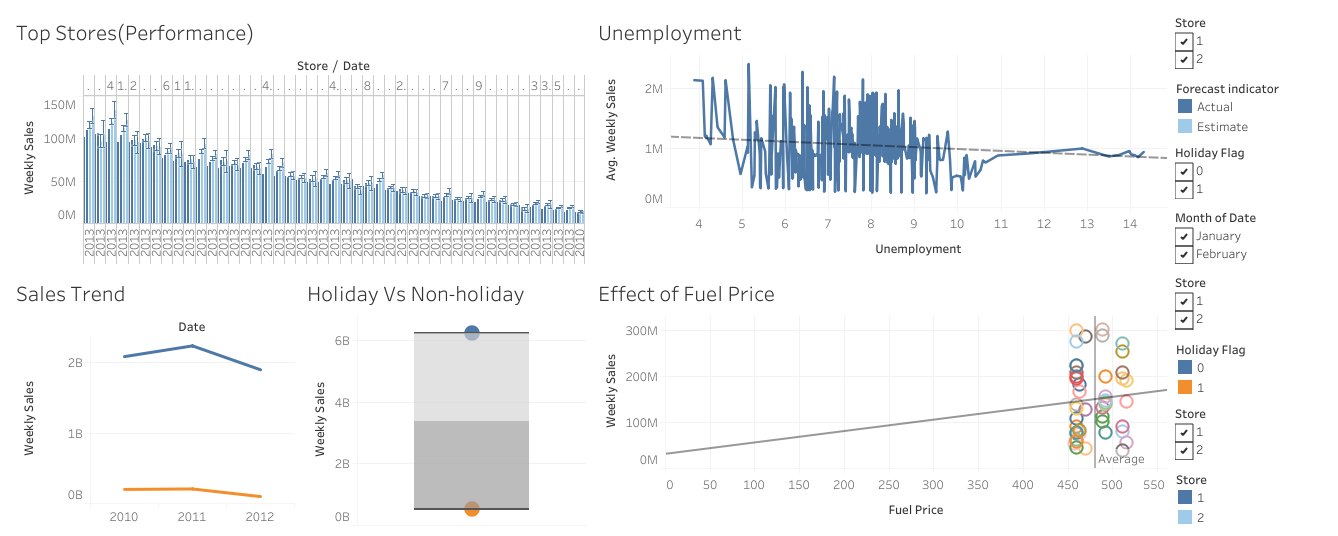

Layout of this report page (visuals, bound fields, positions):
{"tool":"tableau","page":{"name":"Walmart Sales","canvas":[1000,1000],"units":"permille","ordinal":0},"visuals":[{"type":"worksheet","title":"Top Stores","mark":"Automatic","rows":["Weekly_Sales"],"cols":["Store","Date"],"box":[6.9,14.5,423.8,485.5]},{"type":"worksheet","title":"Unemployment","mark":"Automatic","rows":["Weekly_Sales"],"cols":["Unemployment"],"box":[430.7,14.5,423.8,485.5]},{"type":"filter","title":"Top Stores","param":"[federated.04n7eq60n4e3td14e5ic00j8aycc].[none:Store:ok]","box":[854.5,14.5,138.5,122]},{"type":"legend","title":"Top Stores","param":"[federated.04n7eq60n4e3td14e5ic00j8aycc].[none:Forecast Indicator:nk]","box":[854.5,136.5,138.5,119.6]},{"type":"filter","title":"Unemployment","param":"[federated.04n7eq60n4e3td14e5ic00j8aycc].[none:Holiday_Flag:ok]","box":[854.5,256,138.5,122]},{"type":"filter","title":"Sales Trend","param":"[federated.04n7eq60n4e3td14e5ic00j8aycc].[mn:Date:ok]","box":[854.5,378,138.5,122]},{"type":"worksheet","title":"Sales Trend","mark":"Automatic","rows":["Weekly_Sales"],"cols":["Date"],"box":[6.9,500,211.9,485.5]},{"type":"worksheet","title":"Holidays Vs Non","mark":"Circle","rows":["Weekly_Sales"],"box":[218.8,500,211.9,485.5]},{"type":"worksheet","title":"Fuel Chart","mark":"Automatic","rows":["Weekly_Sales"],"cols":["Fuel_Price"],"box":[430.7,500,423.8,485.5]},{"type":"filter","title":"Sales Trend","param":"[federated.04n7eq60n4e3td14e5ic00j8aycc].[none:Store:ok]","box":[854.5,500,138.5,122]},{"type":"legend","title":"Sales Trend","param":"[federated.04n7eq60n4e3td14e5ic00j8aycc].[none:Holiday_Flag:ok]","box":[854.5,622,138.5,119.6]},{"type":"filter","title":"Fuel Chart","param":"[federated.04n7eq60n4e3td14e5ic00j8aycc].[none:Store:ok]","box":[854.5,741.5,138.5,122]},{"type":"legend","title":"Fuel Chart","param":"[federated.04n7eq60n4e3td14e5ic00j8aycc].[none:Store:ok]","box":[854.5,863.5,138.5,122]}]}

Visuals, with their boxes on the dashboard's canvas, which has no fixed pixel size, in thousandths of its width and height (x1, y1, x2, y2). These are canvas units, not pixel positions in the 1338x536 screenshot, which may show the page scaled, cropped or inside an application window:
"Top Stores" worksheet: rect(7, 14, 431, 500)
"Unemployment" worksheet: rect(431, 14, 854, 500)
"Top Stores" filter: rect(854, 14, 993, 136)
"Top Stores" legend: rect(854, 136, 993, 256)
"Unemployment" filter: rect(854, 256, 993, 378)
"Sales Trend" filter: rect(854, 378, 993, 500)
"Sales Trend" worksheet: rect(7, 500, 219, 986)
"Holidays Vs Non" worksheet (Circle marks): rect(219, 500, 431, 986)
"Fuel Chart" worksheet: rect(431, 500, 854, 986)
"Sales Trend" filter: rect(854, 500, 993, 622)
"Sales Trend" legend: rect(854, 622, 993, 742)
"Fuel Chart" filter: rect(854, 742, 993, 864)
"Fuel Chart" legend: rect(854, 864, 993, 986)
